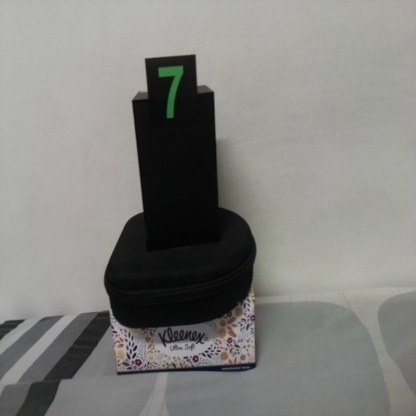id_7: (145, 58, 198, 135)
